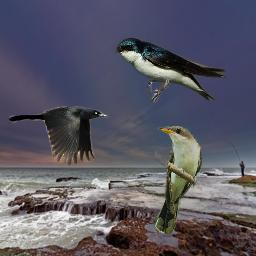Crow: (8, 105, 109, 166)
Cuckoo: (155, 126, 202, 234)
Swallow: (115, 37, 230, 105)
